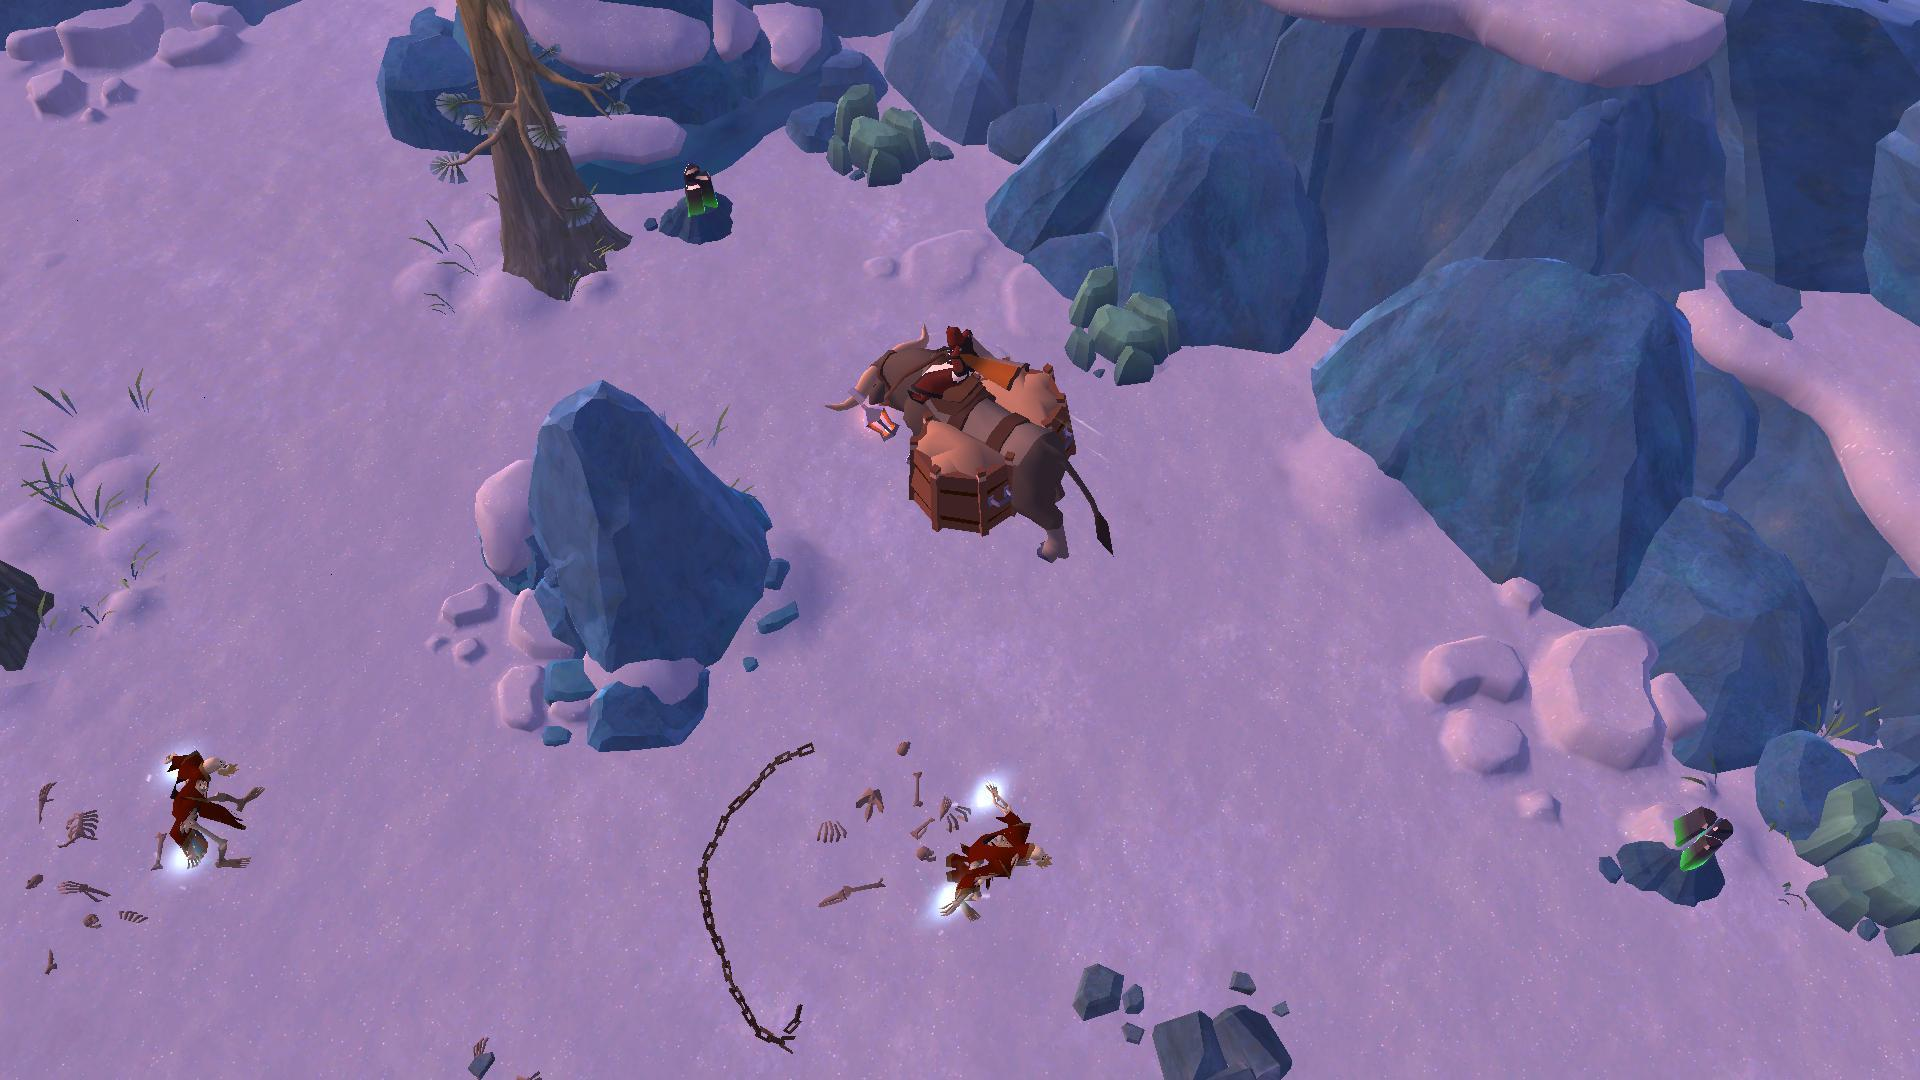enemy_factionUndead: (918, 778, 1056, 928), (148, 737, 258, 876)
ore_t3: (1662, 804, 1734, 880), (682, 166, 713, 227)
rock_t3: (1789, 765, 1920, 943), (1054, 260, 1189, 392), (824, 76, 935, 189)
